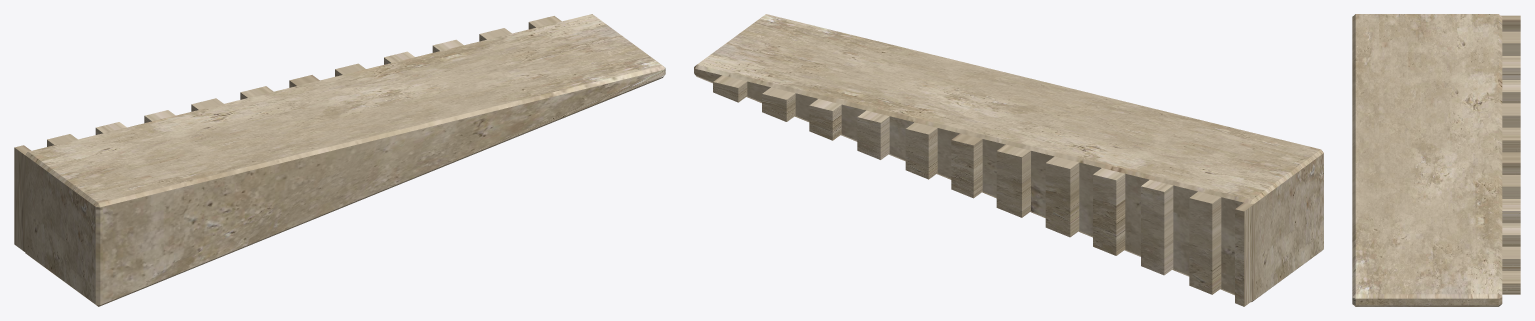
The model's file is roof_face_outer.FBX.
3 renders of one model, left to right at view 1: azimuth 30°, elevation 25°; view 2: azimuth 150°, elevation 25°; view 3: azimuth 270°, elevation 25°, orthographic. The views are drawn at different scales.
Visible parts, largest first — view 1: Box316; view 2: Box316; view 3: Box316.
Boxes of the visible parts, bbox=[...] form: Box316: bbox=[14, 14, 665, 306]; Box316: bbox=[694, 14, 1323, 306]; Box316: bbox=[1352, 14, 1520, 306].
Size of the model in its own units: 200 by 34.83 by 50.34.
